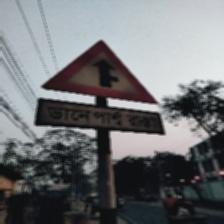Side-road-right: (37, 40, 163, 137)
